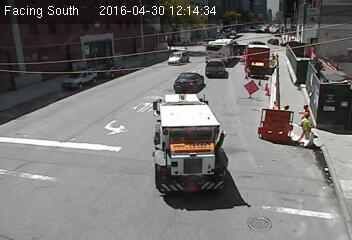neg: (88, 85, 123, 132), (161, 102, 180, 127), (241, 32, 257, 53), (206, 43, 219, 61)
pos: (297, 110, 316, 134), (298, 100, 316, 124)
